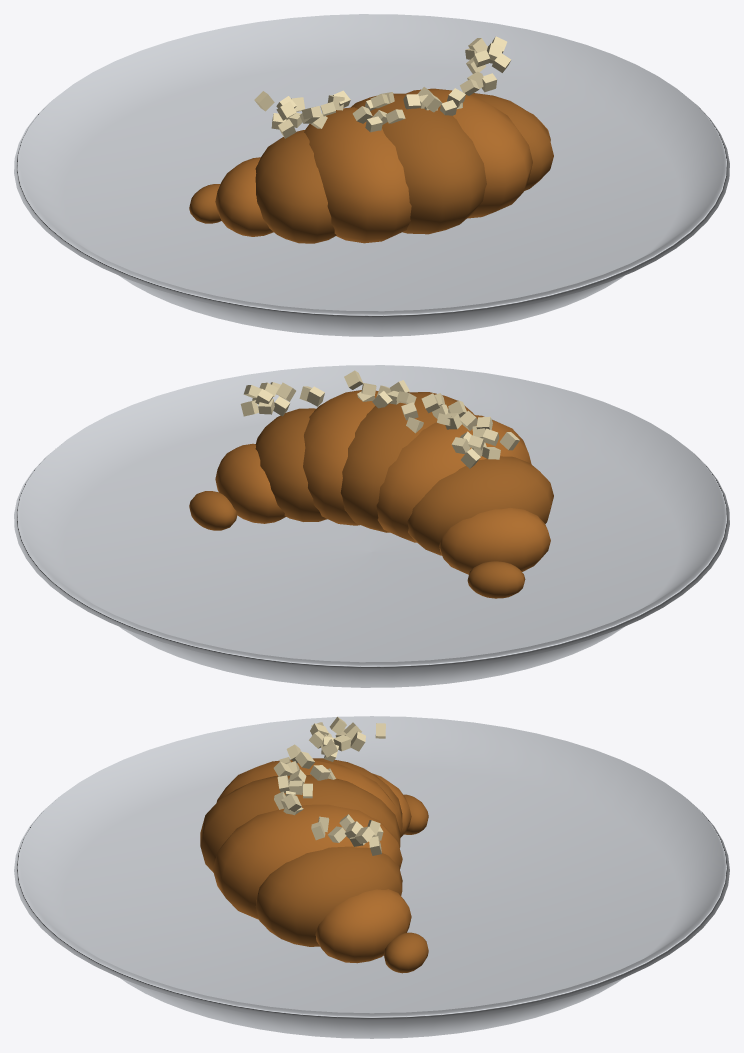
File: alba-croissant-cereali-miele-o-lampone.glb
3 renders of one model, top to bottom at view 1: azimuth 30°, elevation 25°; view 2: azimuth 150°, elevation 25°; view 3: azimuth 270°, elevation 25°, orthographic.
Bounding box in the file's own units: 0.22 × 0.0511 × 0.22.
